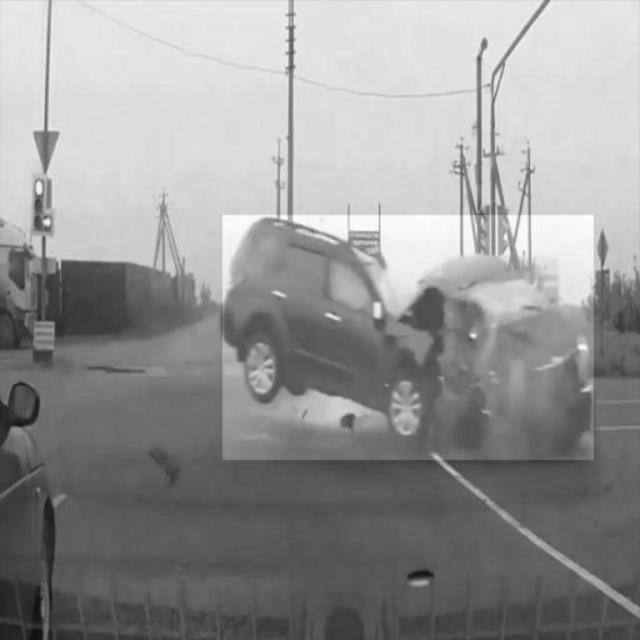accident: (223, 215, 594, 461)
